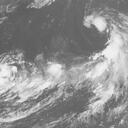cyclone: (80, 7, 127, 49)
